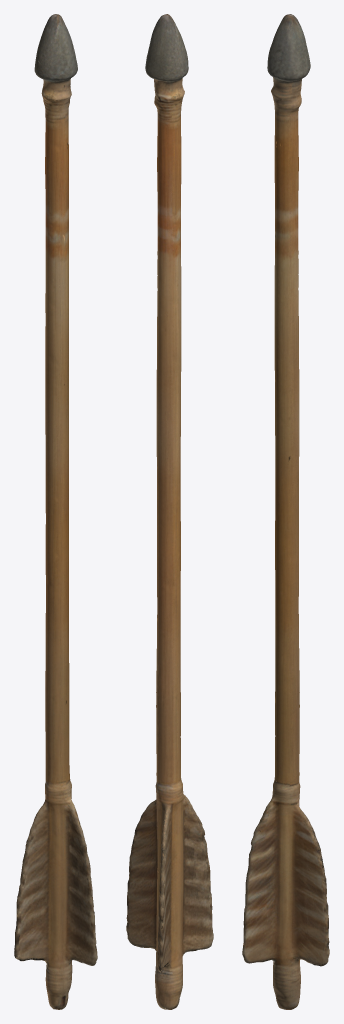
Rendered from Stone Arrow.fbx.
The picture shows the model from 3 angles, left to right: view 1: azimuth 90°, elevation 25°; view 2: azimuth 150°, elevation 25°; view 3: azimuth 330°, elevation 25°; orthographic projection.
Parts seen in each view (by area): view 1: Mesh_0; view 2: Mesh_0; view 3: Mesh_0.
Part boxes in pixels (x1,y1,x2,y2): Mesh_0: [14, 14, 97, 1009]; Mesh_0: [126, 14, 213, 1009]; Mesh_0: [242, 14, 329, 1009].
Bounding box in the file's own units: 14.7 × 200 × 15.27.
1 material, 1 textured.
